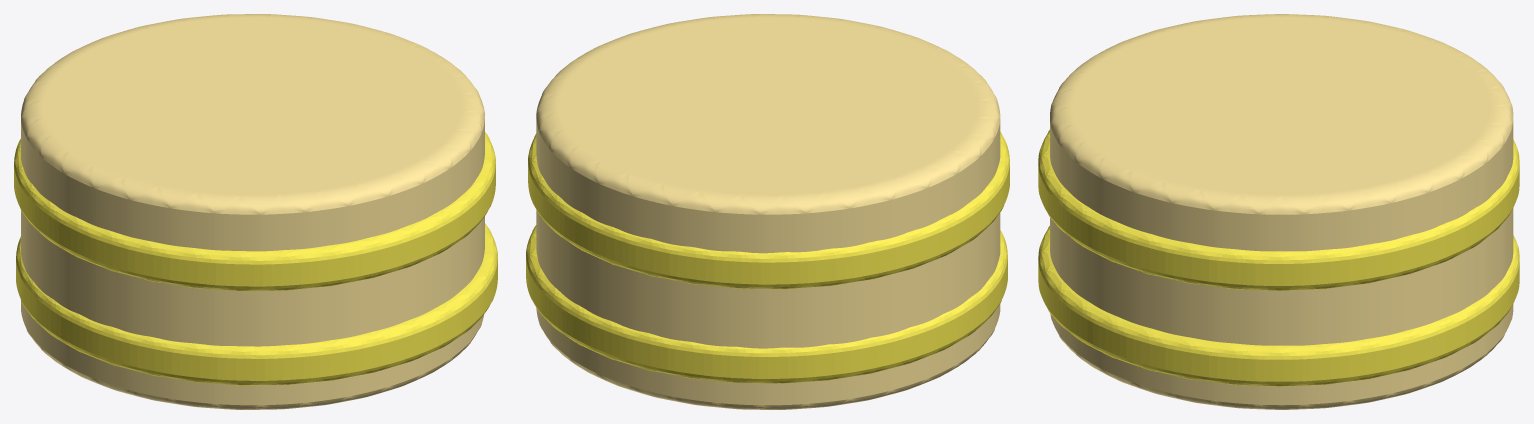
The model's file is bolocilindro abacaxi.glb.
The picture shows the model from 3 angles, left to right: view 1: azimuth 30°, elevation 25°; view 2: azimuth 150°, elevation 25°; view 3: azimuth 270°, elevation 25°; orthographic projection.
Parts seen in each view (by area): view 1: Cylinder.003, Cylinder.001, Cylinder.000; view 2: Cylinder.003, Cylinder.001, Cylinder.000; view 3: Cylinder.003, Cylinder.000, Cylinder.001.
Part boxes in pixels (bbox=[...]): Cylinder.003: bbox=[21, 14, 484, 409]; Cylinder.001: bbox=[14, 132, 495, 291]; Cylinder.000: bbox=[16, 223, 497, 385]; Cylinder.003: bbox=[536, 14, 1000, 409]; Cylinder.001: bbox=[528, 132, 1009, 289]; Cylinder.000: bbox=[526, 225, 1007, 383]; Cylinder.003: bbox=[1050, 14, 1513, 409]; Cylinder.000: bbox=[1038, 226, 1519, 386]; Cylinder.001: bbox=[1038, 130, 1519, 290].
Size of the model in its own units: 2.7 by 1.3 by 2.68.
